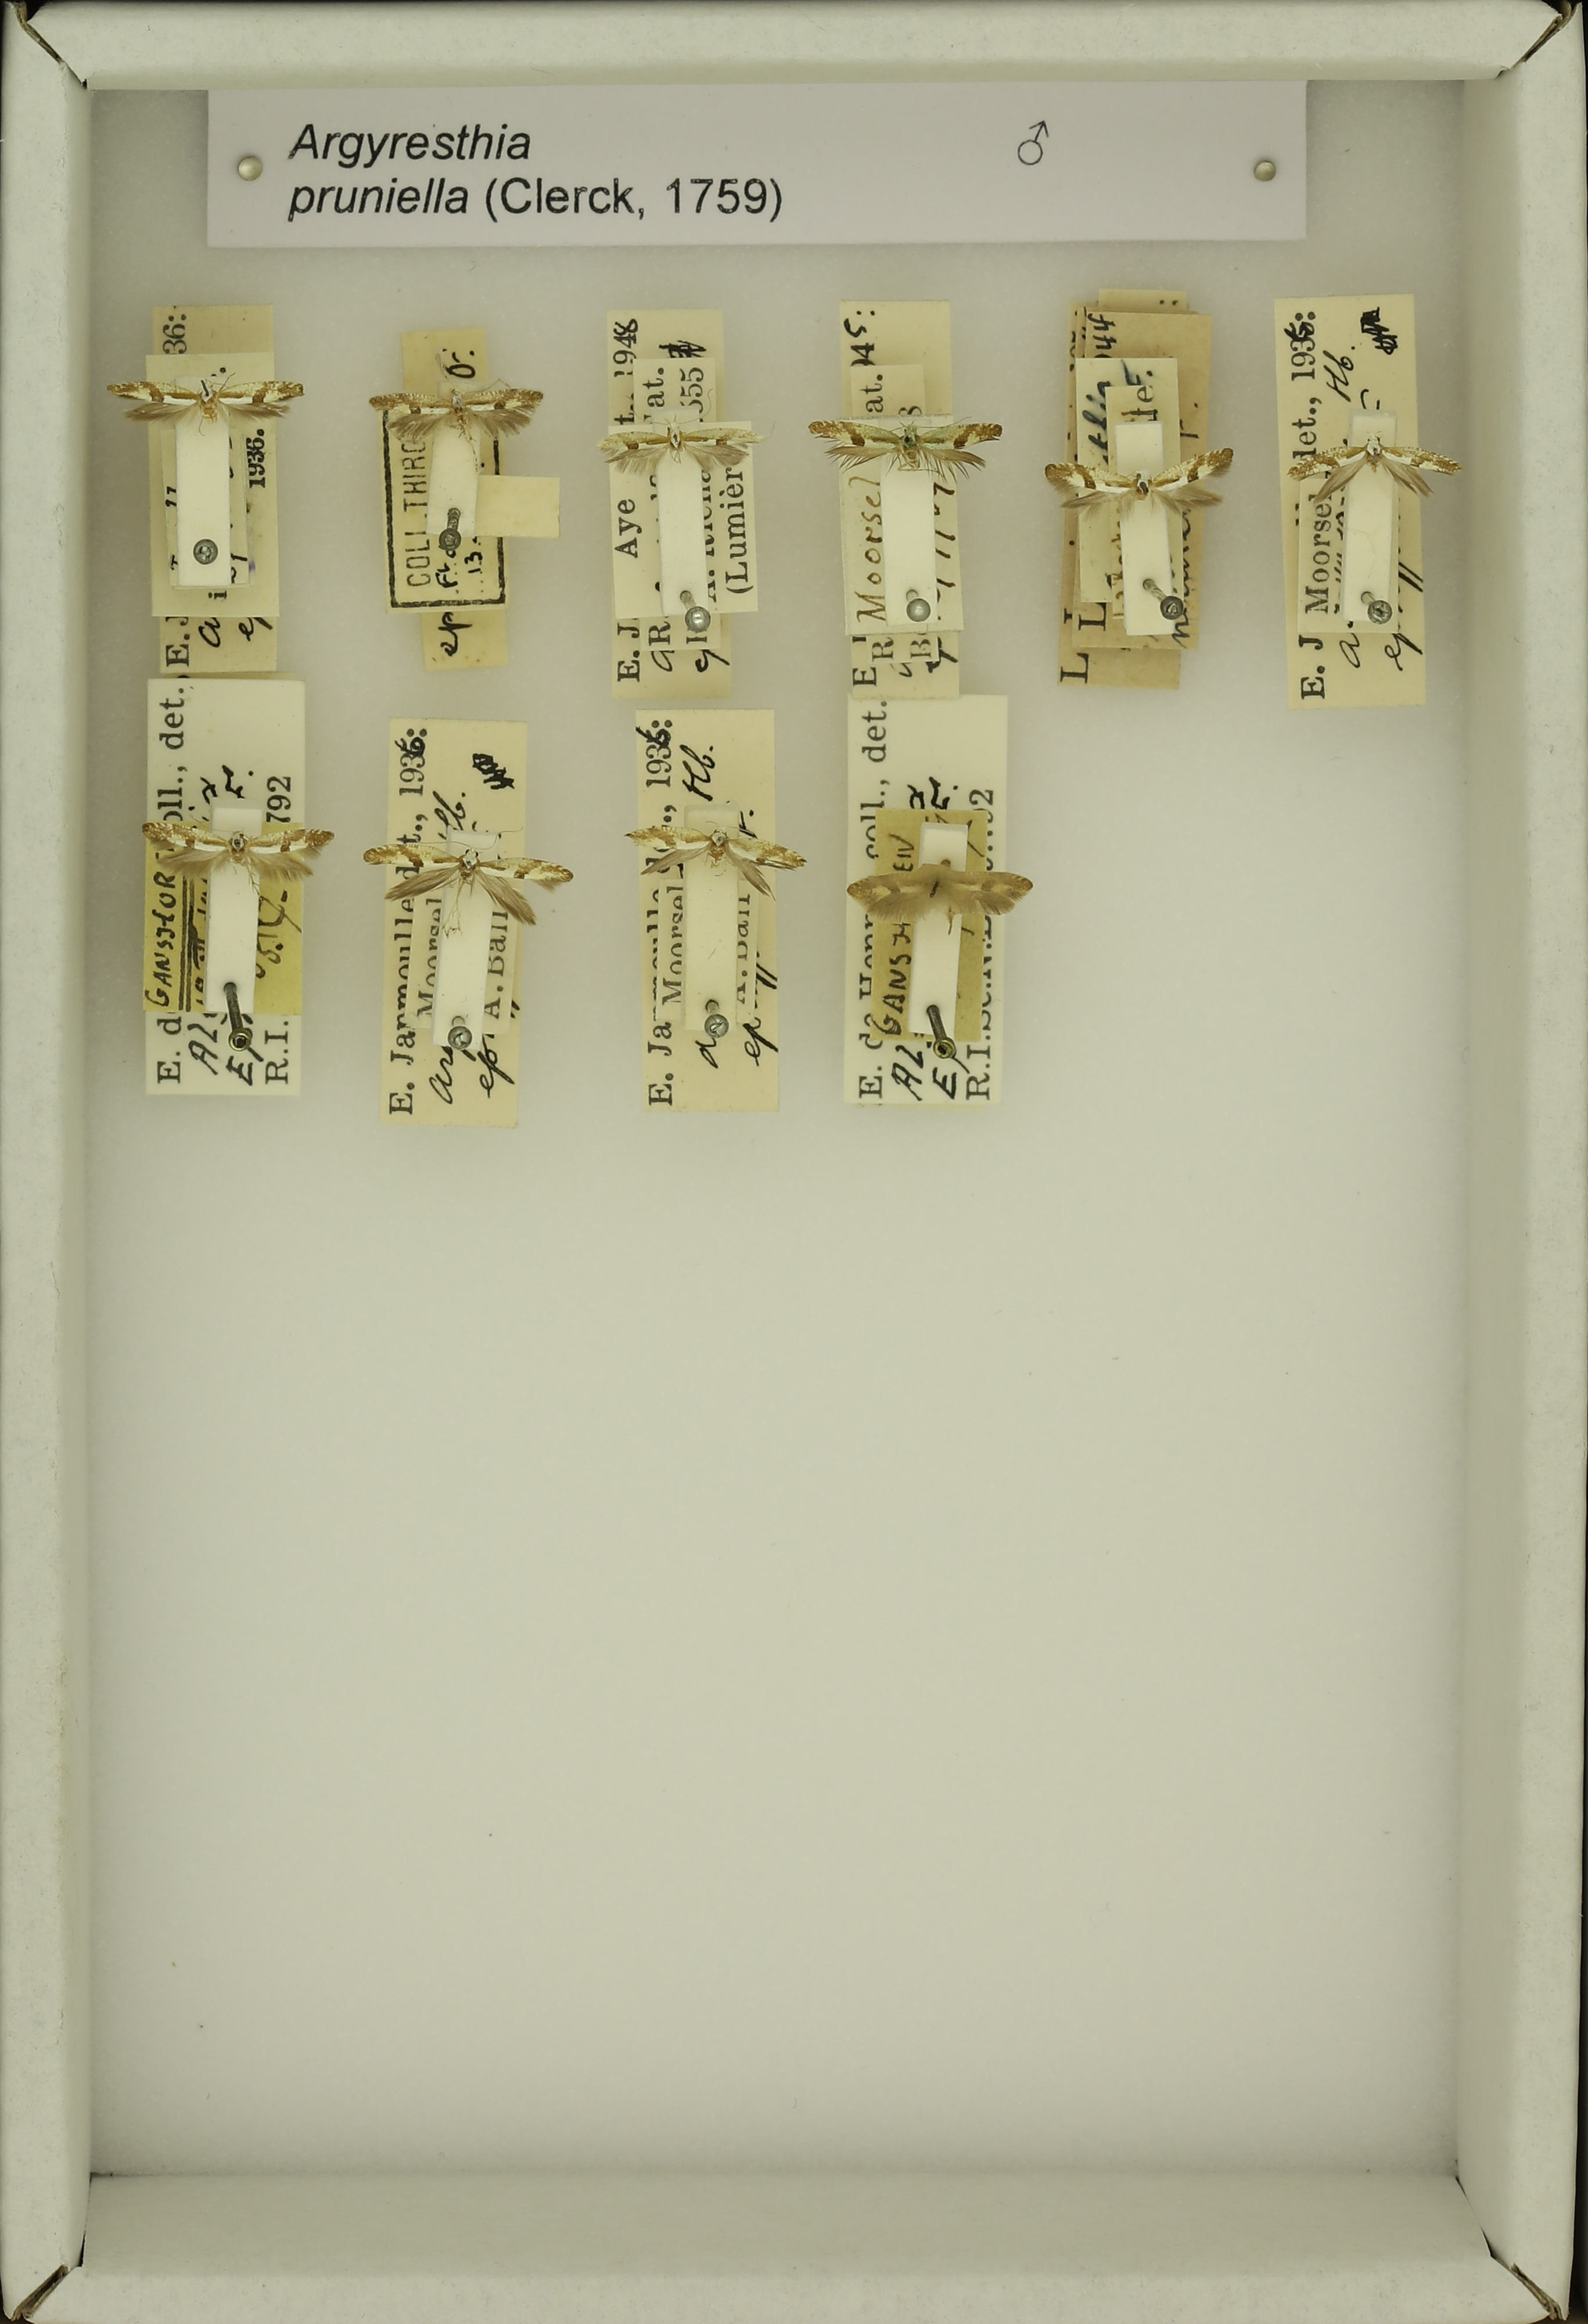insect: (357, 828, 581, 938), (618, 811, 809, 904), (836, 853, 1051, 934), (1030, 440, 1244, 519), (804, 406, 1017, 480), (138, 811, 339, 887), (353, 374, 548, 450), (101, 366, 320, 431), (590, 406, 768, 482), (1286, 431, 1463, 505)
